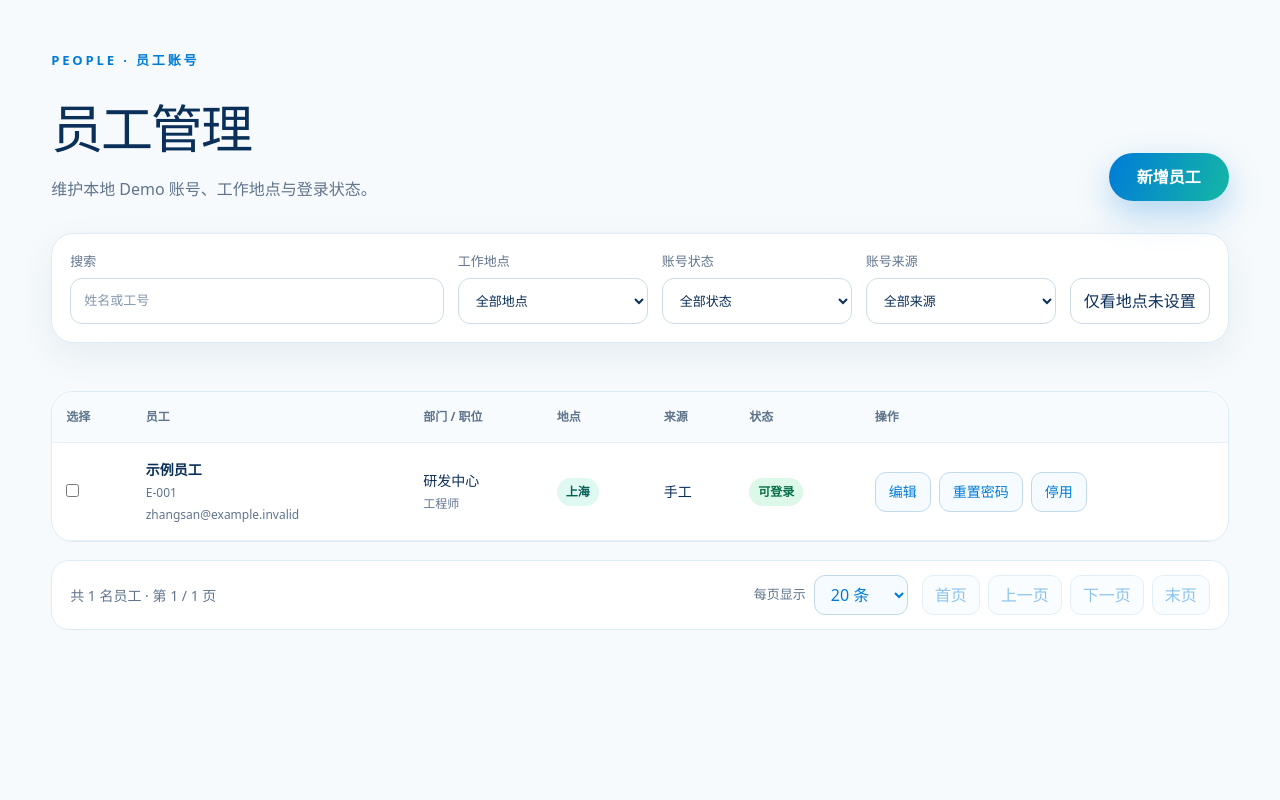
Test: employee password reset UI › shows the generated password once and clears it when dismissed
The image size is (1280, 800).
Click the button "重置密码": click(981, 492) left=939, top=472, right=1023, bottom=512
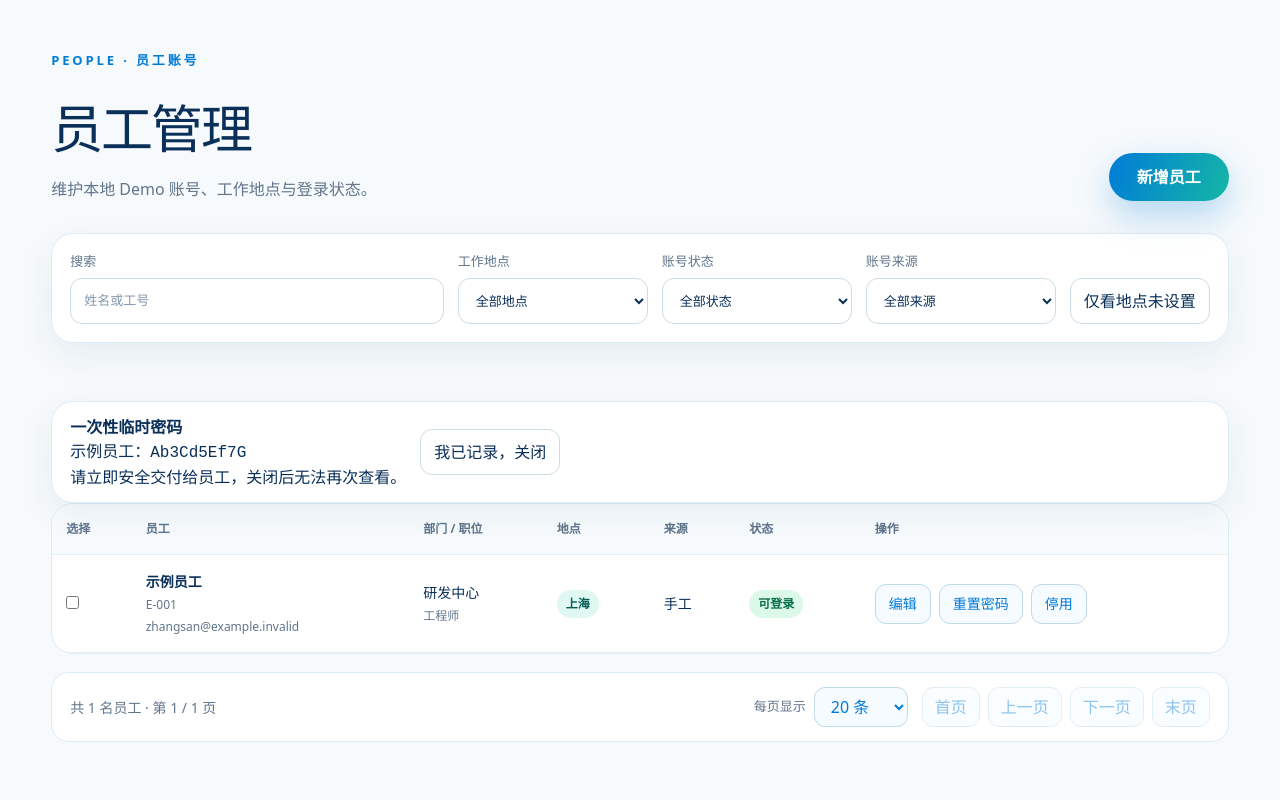
Expected: the text "Ab3Cd5Ef7G" is shown, left=150, top=444, right=246, bottom=462
Expected: the text "一次性临时密码" is shown, left=70, top=416, right=182, bottom=438
Click the button "我已记录，关闭": click(490, 452) left=420, top=429, right=560, bottom=475
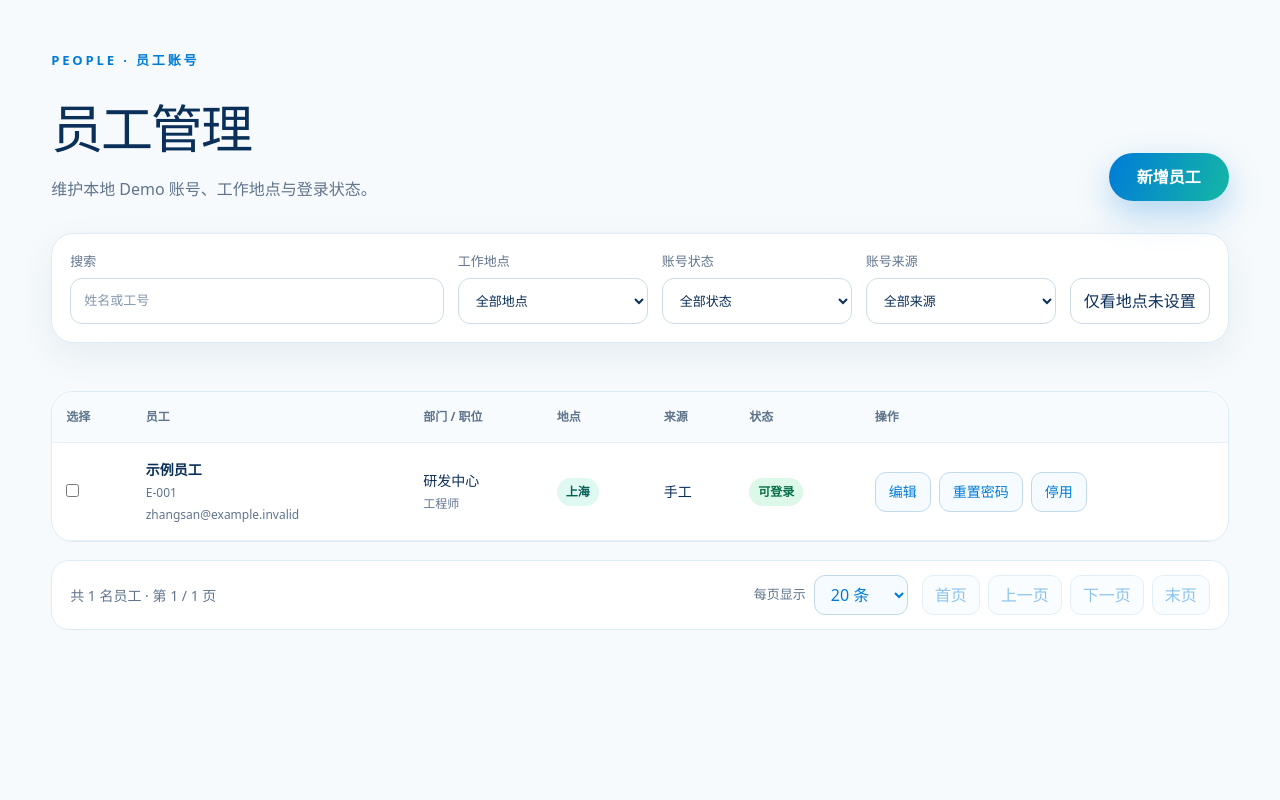
Expected: the text "Ab3Cd5Ef7G" is gone
